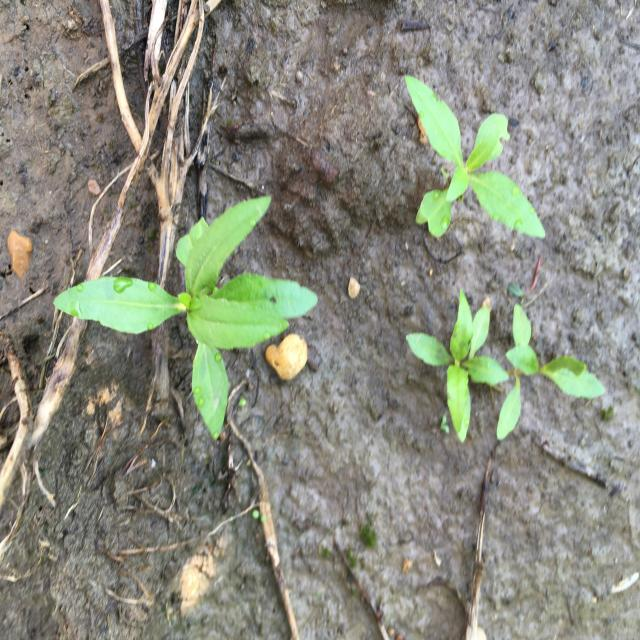Eclipta: (52, 194, 321, 442), (402, 72, 548, 244), (404, 286, 512, 447), (496, 300, 608, 442)
